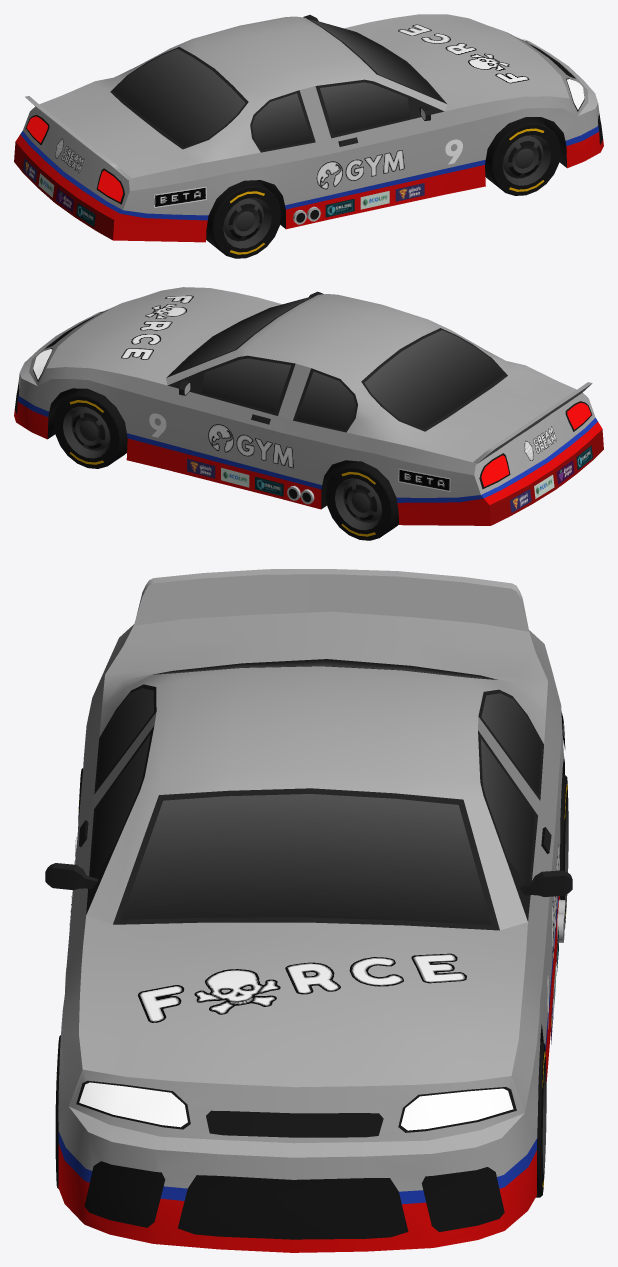
Rendered from RaceCar_063.glb.
The picture shows the model from 3 angles, top to bottom: view 1: azimuth 30°, elevation 25°; view 2: azimuth 150°, elevation 25°; view 3: azimuth 270°, elevation 25°; orthographic projection. The views are drawn at different scales.
Visible parts, largest first — view 1: RaceCar_063, wheel_1_RaceCar_063_Wheel_2R, wheel_3_RaceCar_063_Wheel_3R; view 2: RaceCar_063, wheel_0_RaceCar_063_Wheel_1L, wheel_2_RaceCar_063_Wheel_3L; view 3: RaceCar_063, wheel_0_RaceCar_063_Wheel_1L.
Part boxes in pixels (<box>): RaceCar_063: <box>14,14,603,242</box>; wheel_1_RaceCar_063_Wheel_2R: <box>485,117,560,195</box>; wheel_3_RaceCar_063_Wheel_3R: <box>206,180,281,258</box>; RaceCar_063: <box>14,287,603,525</box>; wheel_0_RaceCar_063_Wheel_1L: <box>53,388,127,468</box>; wheel_2_RaceCar_063_Wheel_3L: <box>325,460,398,540</box>; RaceCar_063: <box>45,569,572,1252</box>; wheel_0_RaceCar_063_Wheel_1L: <box>536,1041,546,1197</box>.
Size of the model in its own units: 4.66 by 1.26 by 2.08.
Materials: 3 (3 with a texture image).
